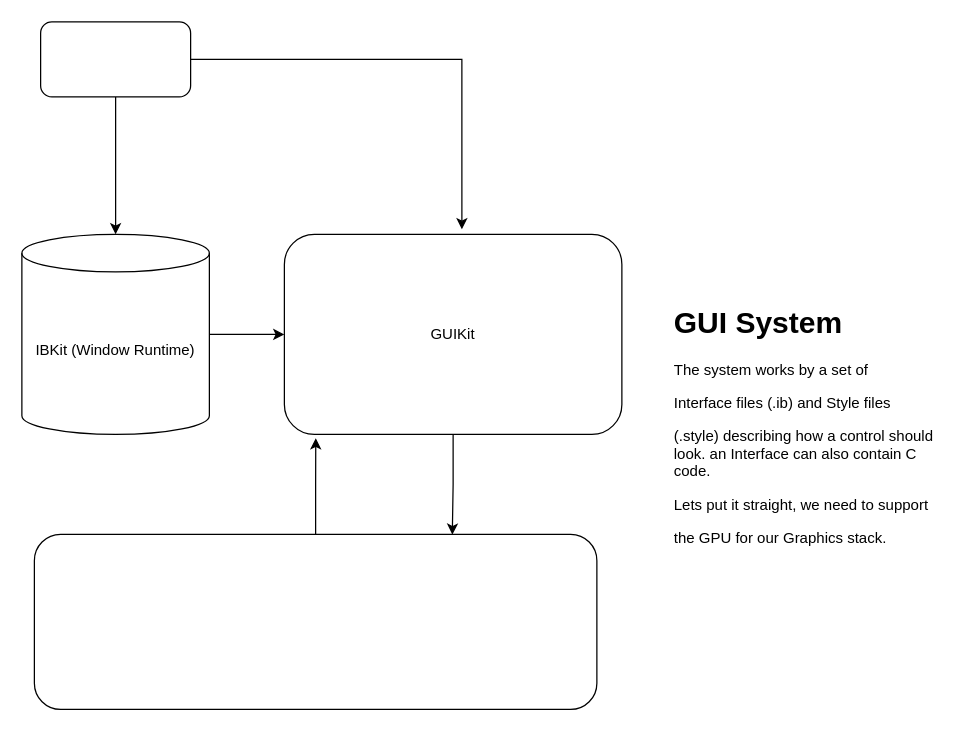
This 969x731 diagram has some shape labels left out. Here are the shapes that lost their labels. From the top down, the centre of each, then its label:
At pixel 115 59: "zkaOS Subsystem App".
At pixel 315 621: "Graphics Kit".
